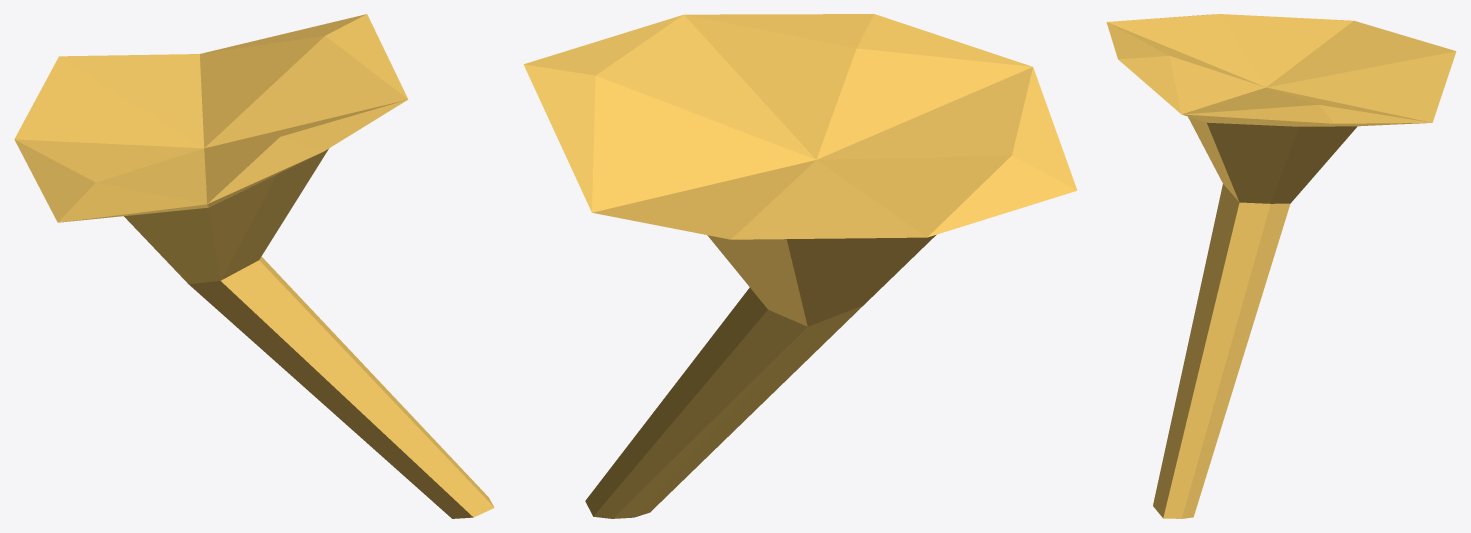
File: Mushroom_j_02.fbx
3 renders of one model, left to right at view 1: azimuth 30°, elevation 25°; view 2: azimuth 150°, elevation 25°; view 3: azimuth 270°, elevation 25°, orthographic. The views are drawn at different scales.
Parts seen in each view (by area): view 1: Mushroom_j_02; view 2: Mushroom_j_02; view 3: Mushroom_j_02.
Part boxes in pixels (bbox=[...]): Mushroom_j_02: bbox=[14, 14, 494, 518]; Mushroom_j_02: bbox=[523, 14, 1077, 518]; Mushroom_j_02: bbox=[1106, 14, 1456, 518].
Bounding box in the file's own units: 0.1097 × 0.109 × 0.0901.
